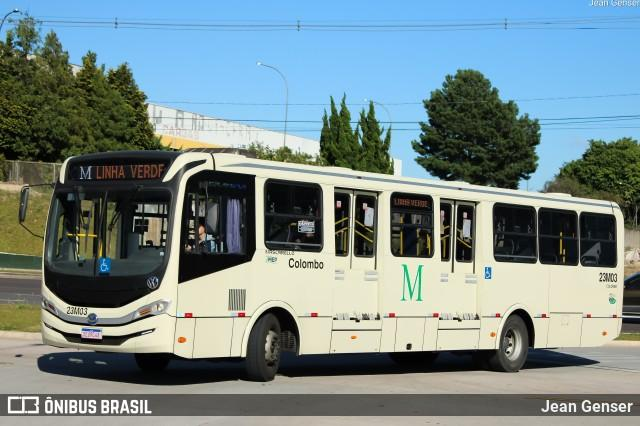LINHA VERDE: (93, 161, 166, 183)
